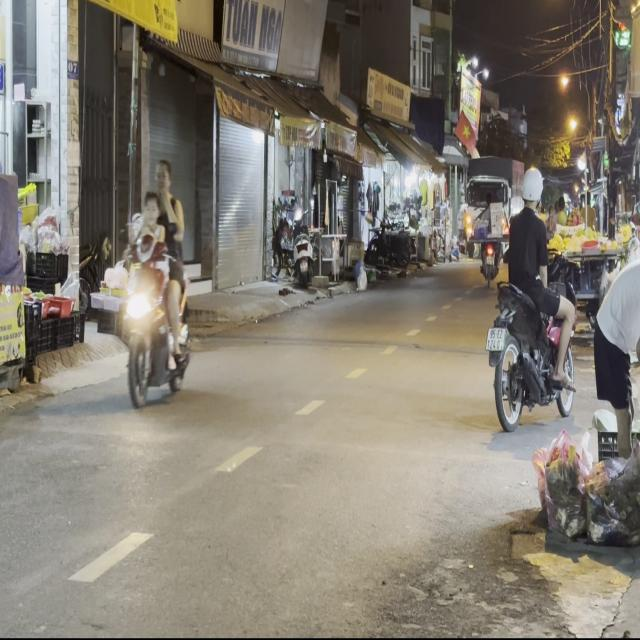helmet: (520, 166, 543, 209)
licenseplate: (484, 164, 578, 432), (116, 156, 192, 408)
motorcyclist: (141, 186, 160, 222), (154, 157, 172, 194)
nohelmet: (486, 326, 507, 349)
